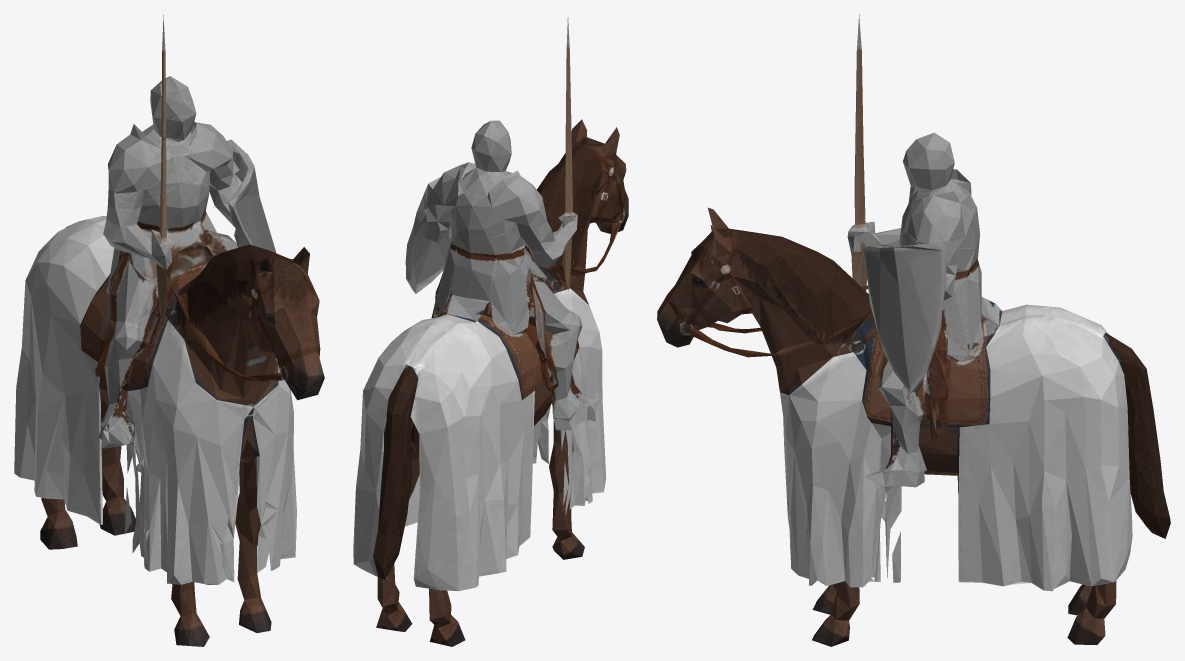
File: realistic-cc0.95bf4458adc9.knight.glb
3 views of the same model, side by side, from view 1: azimuth 30°, elevation 25°; view 2: azimuth 150°, elevation 25°; view 3: azimuth 270°, elevation 25° (orthographic). The views are drawn at different scales.
Parts seen in each view (by area): view 1: knight; view 2: knight; view 3: knight.
Boxes of the visible parts, x1,y1,x2,y2 form: knight: (14, 15, 324, 646); knight: (353, 17, 628, 646); knight: (657, 14, 1170, 646).
Size of the model in its own units: 0.9946 by 3.04 by 2.4.
2 materials, 2 textured.
